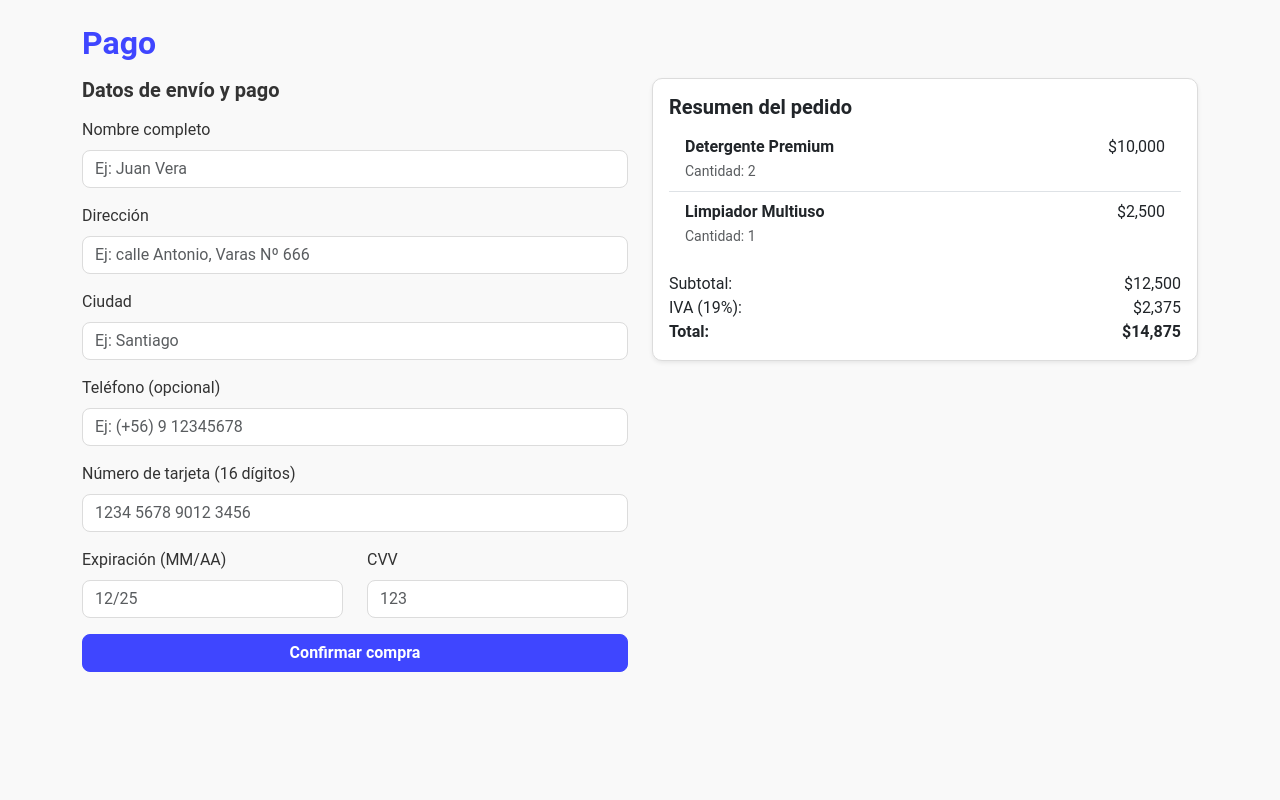
Test: Pago Page › Formulario de pago › debe formatear la fecha de expiración correctamente
Step 1. Type "1225" into the field with placeholder "12/25" → {"x": 212, "y": 599}, box [82,580,343,618]
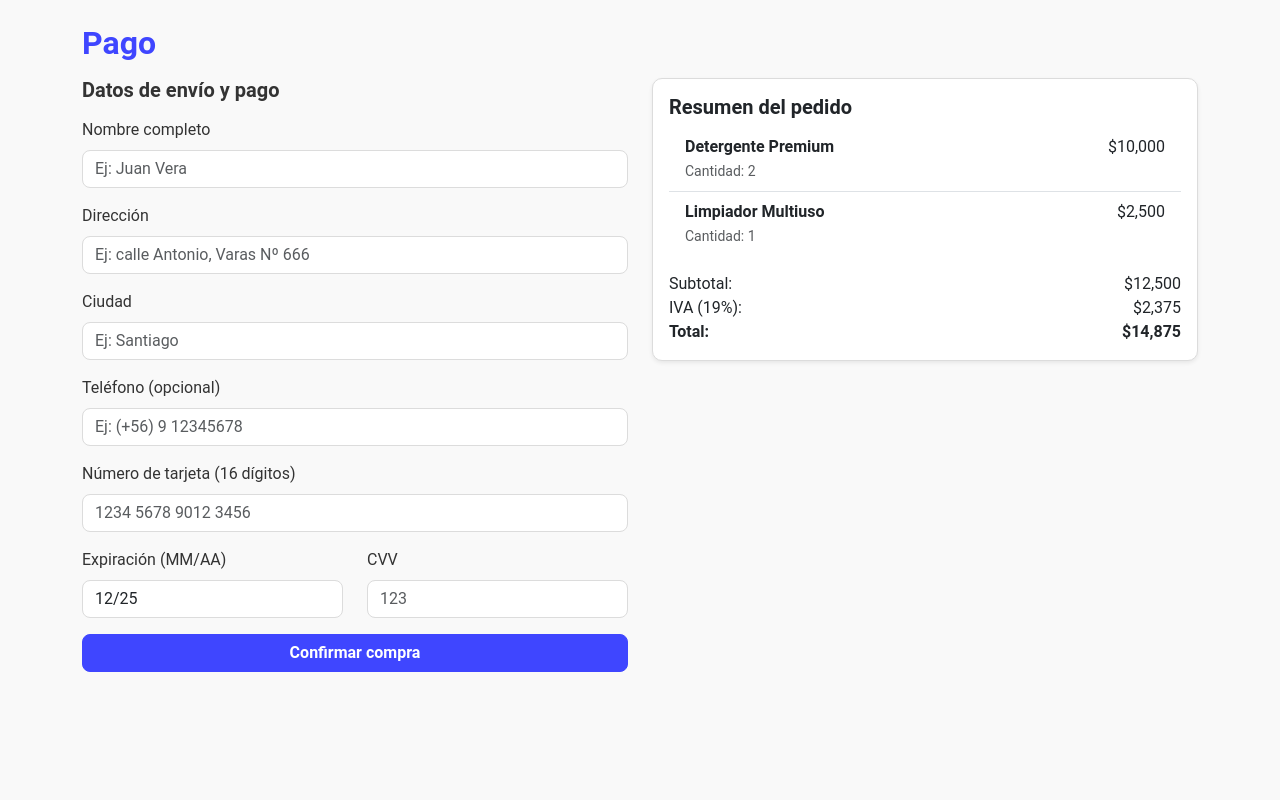
Result: the field with placeholder "12/25" holds "12/25" at [82,580,343,618]
